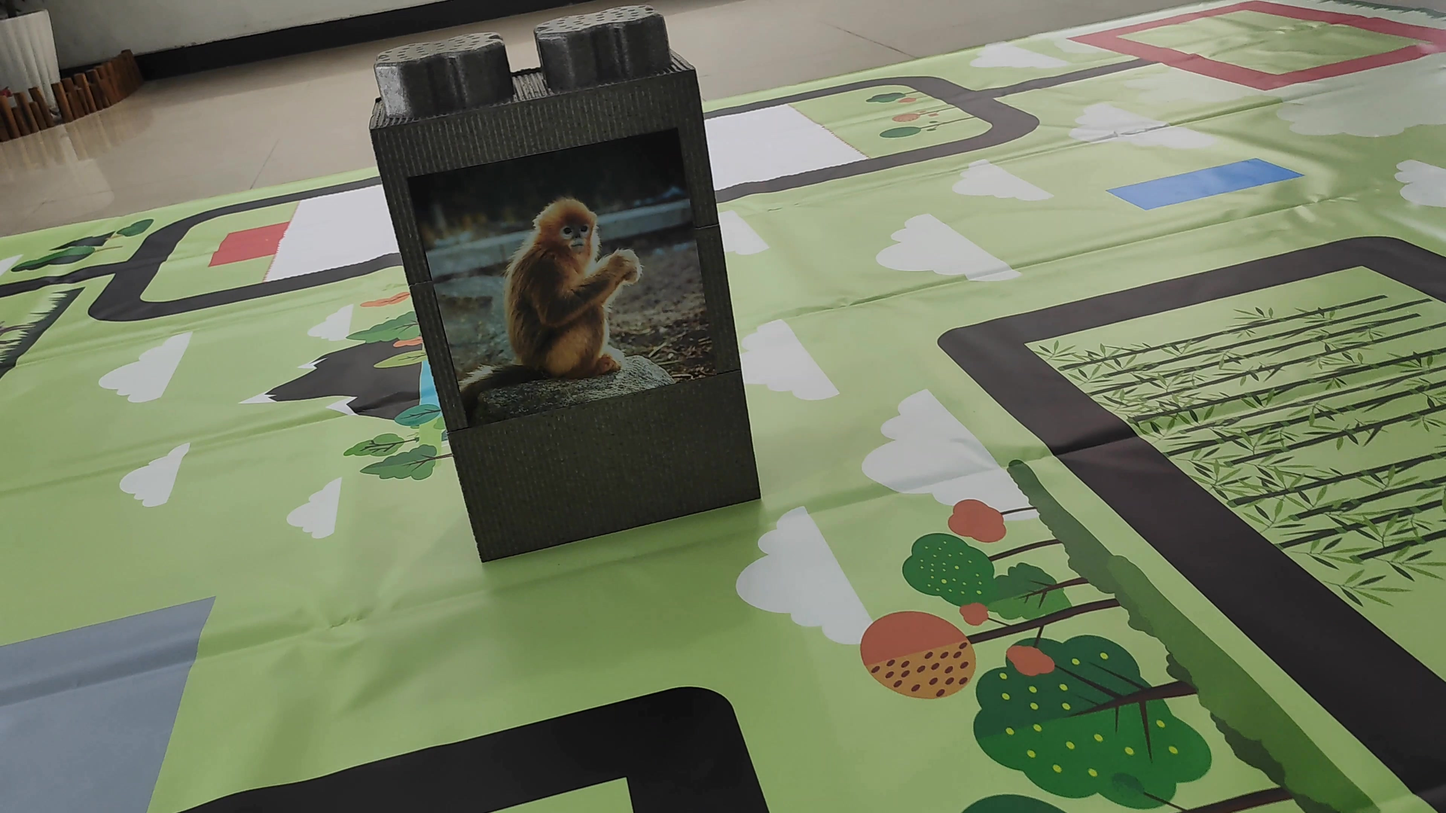monkey: (454, 177, 650, 402)
